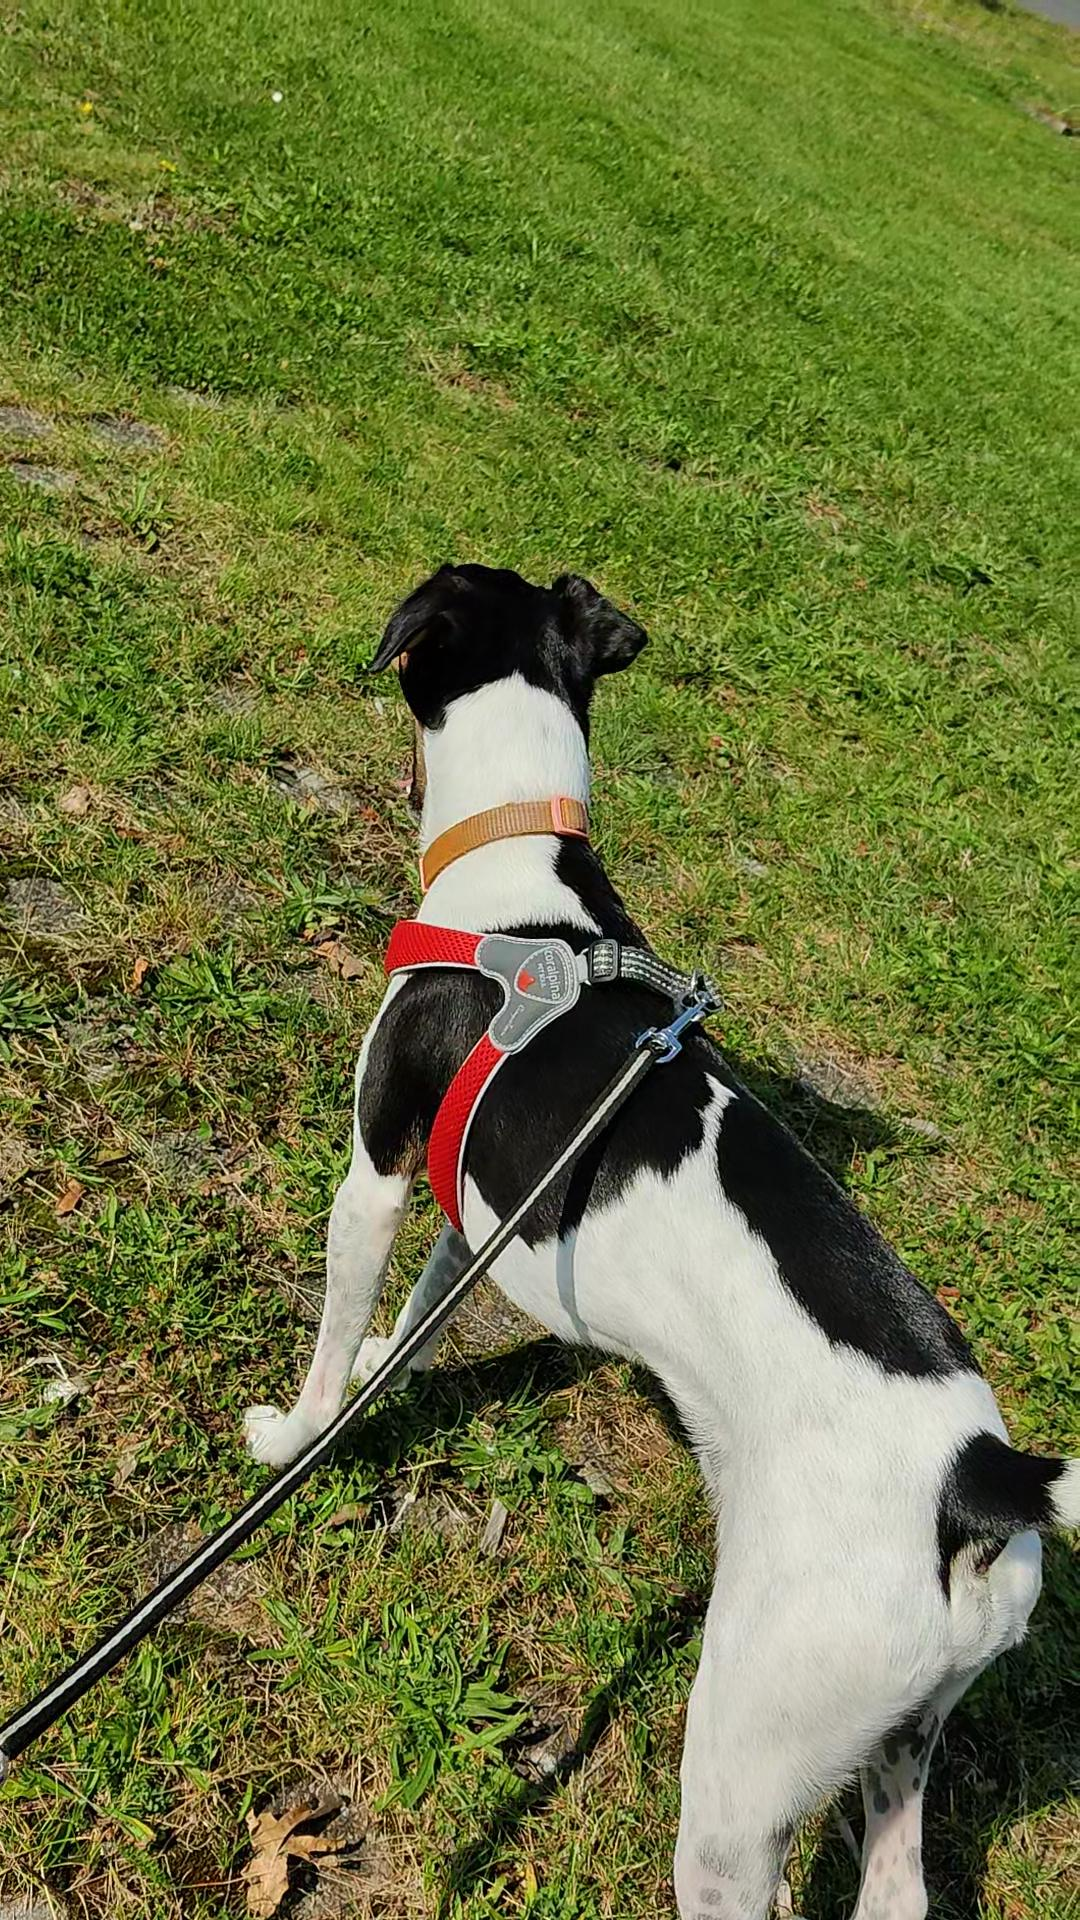Dog: (219, 545, 1079, 1919)
